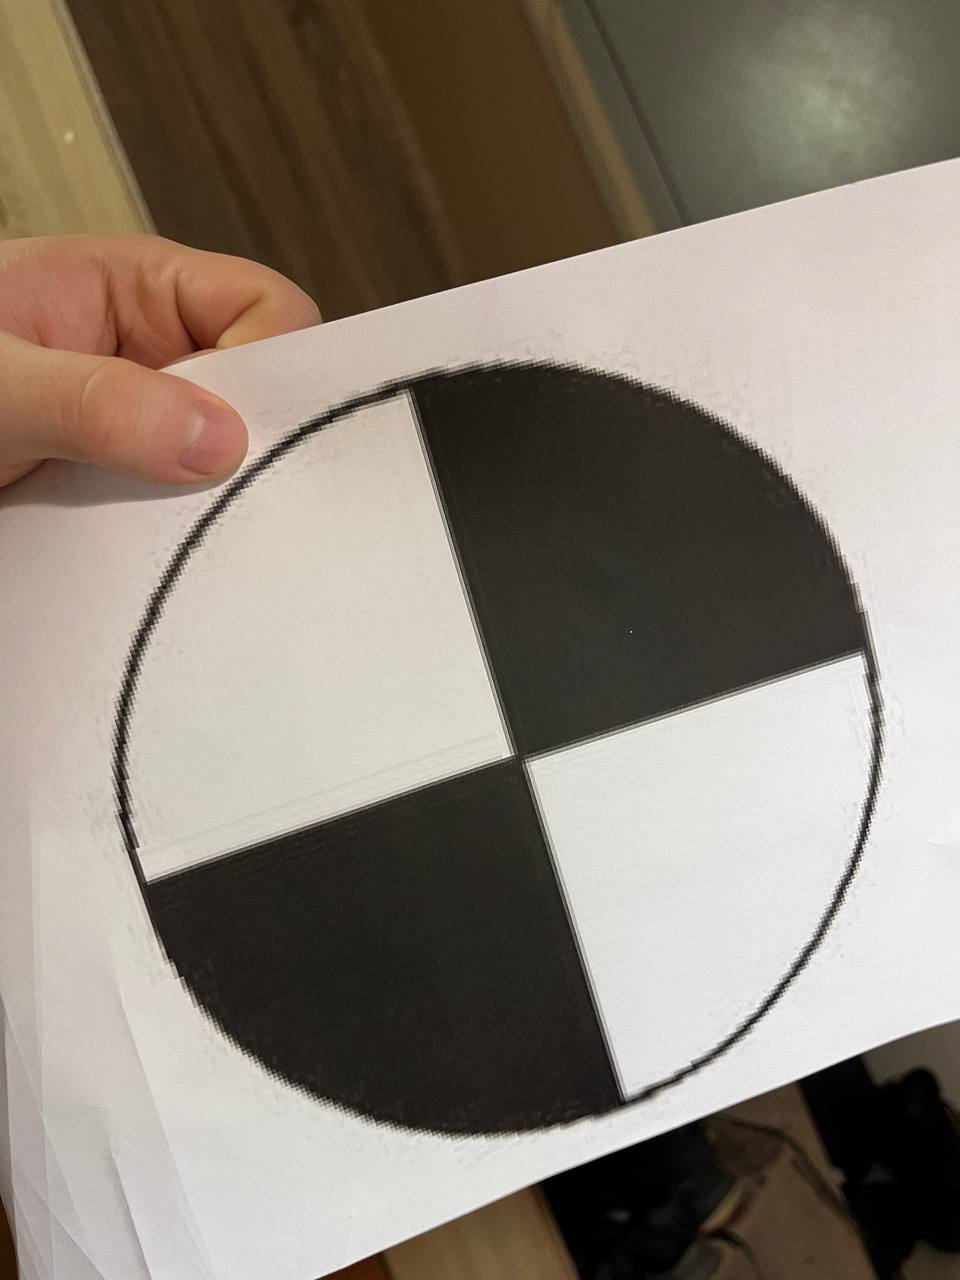pattern: (118, 358, 881, 1137)
